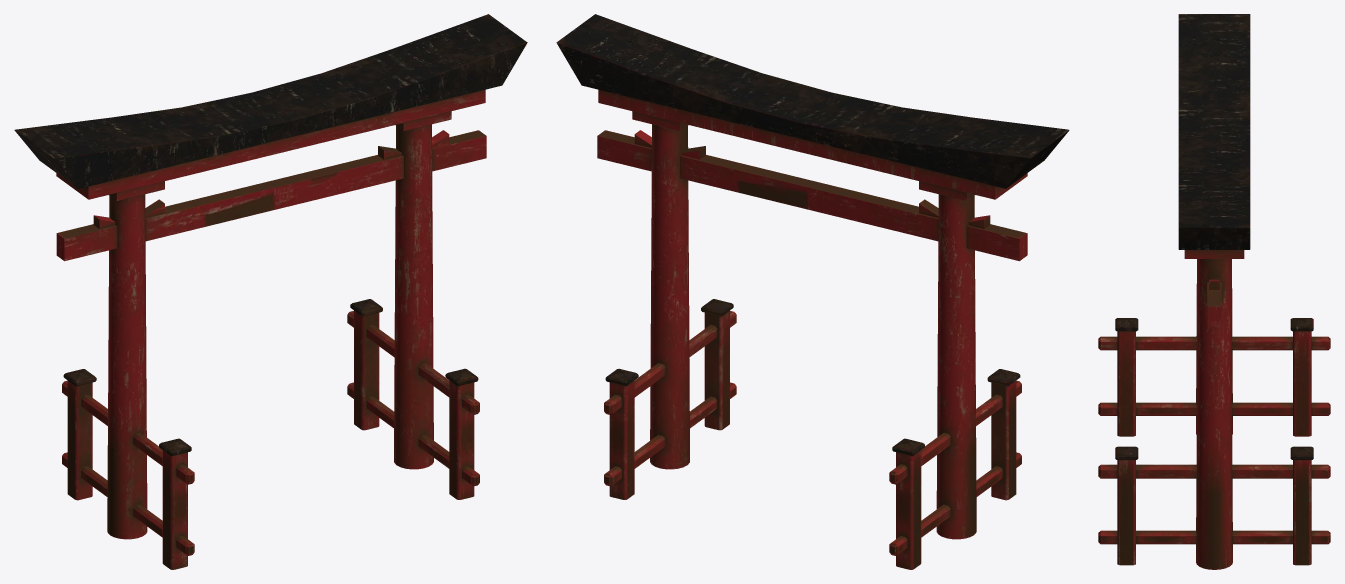
The model's file is torigate.glb.
3 renders of one model, left to right at view 1: azimuth 30°, elevation 25°; view 2: azimuth 150°, elevation 25°; view 3: azimuth 270°, elevation 25°, orthographic. The views are drawn at different scales.
Visible parts, largest first — view 1: Torii_gate; view 2: Torii_gate; view 3: Torii_gate.
Part boxes in pixels (x1,y1,x2,y2): Torii_gate: (14,14,527,569); Torii_gate: (556,14,1069,569); Torii_gate: (1098,14,1330,569).
Bounding box in the file's own units: 27.13 × 22.39 × 12.5.
1 material, 1 textured.
